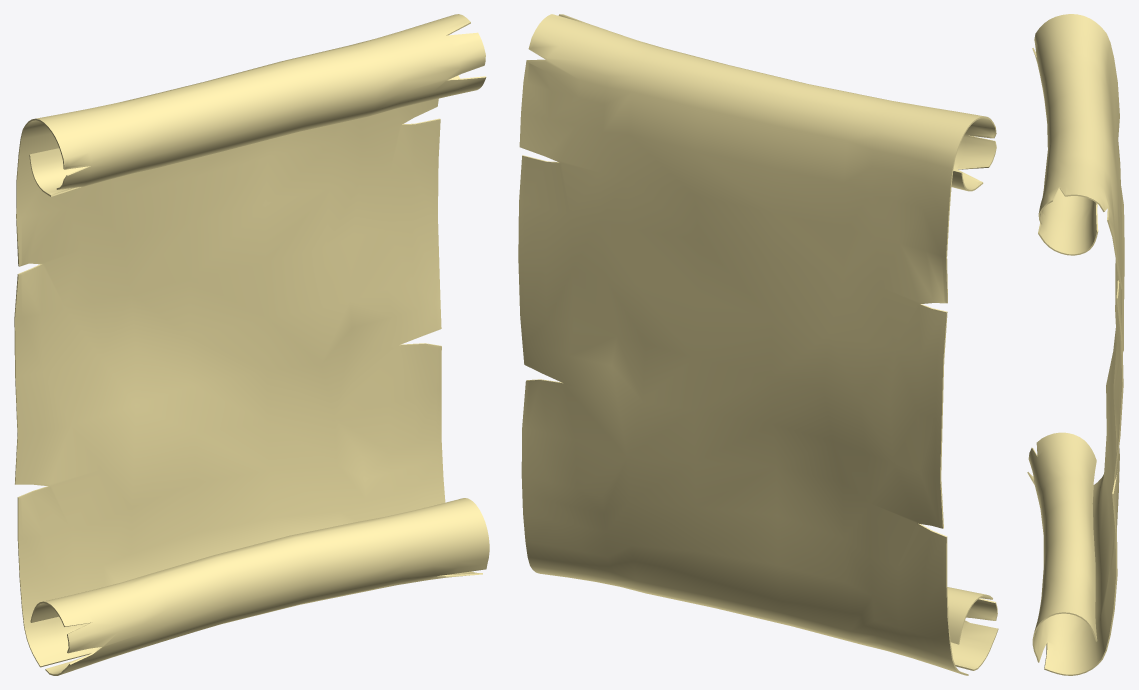
The model's file is Question Scrolling Paper.fbx.
3 views of the same model, side by side, from view 1: azimuth 30°, elevation 25°; view 2: azimuth 150°, elevation 25°; view 3: azimuth 270°, elevation 25° (orthographic). The views are drawn at different scales.
Parts seen in each view (by area): view 1: Question Scrolling Paper; view 2: Question Scrolling Paper; view 3: Question Scrolling Paper.
Boxes of the visible parts, <box> form: Question Scrolling Paper: <box>14,14,489,675</box>; Question Scrolling Paper: <box>518,14,998,675</box>; Question Scrolling Paper: <box>1027,14,1124,675</box>.
Bounding box in the file's own units: 1188 × 1475 × 271.
